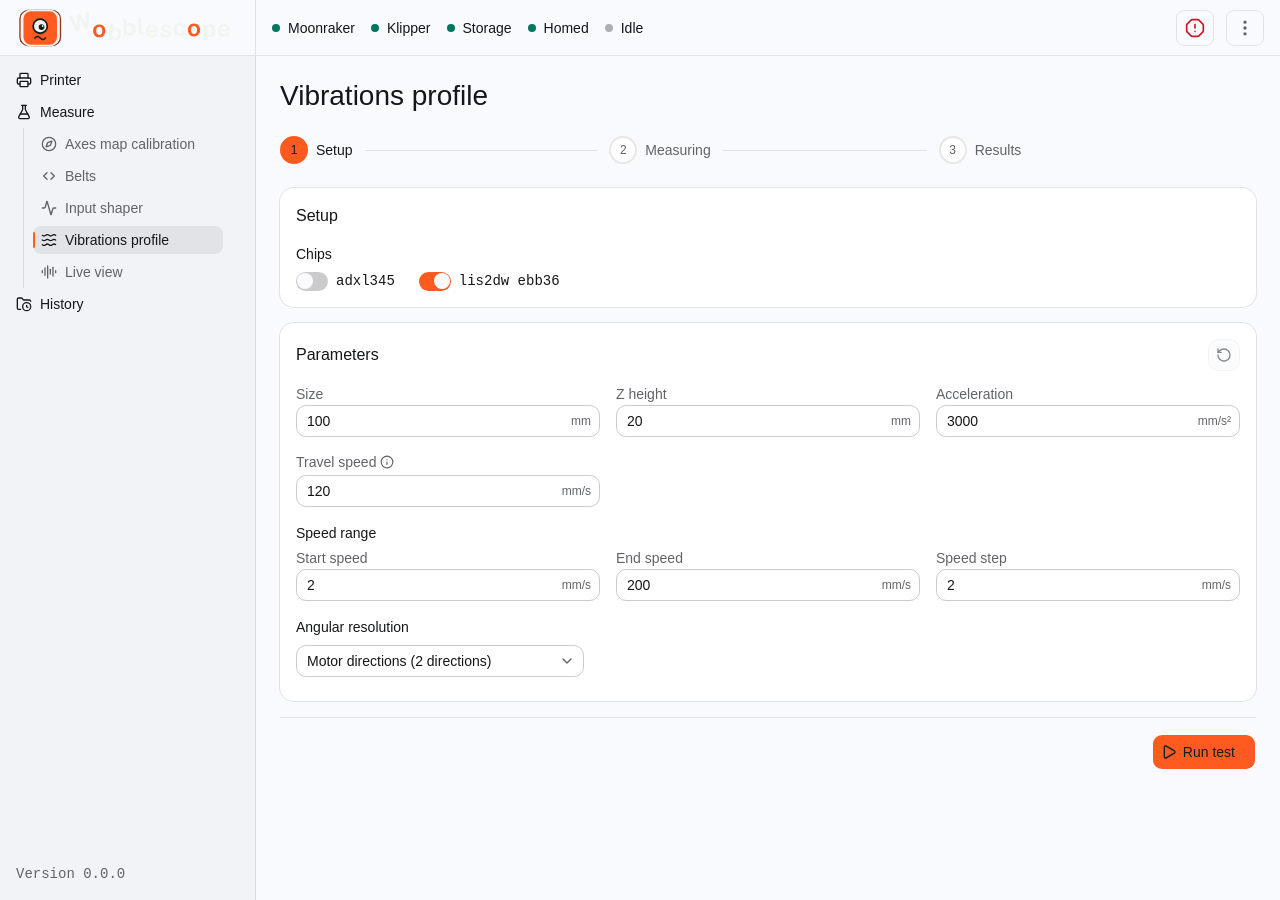
Scenario: the vibrations run page › refuses_a_start_speed_not_below_the_end_speed
Check: the button "Run test" is enabled, box x1=1152 y1=734 x2=1256 y2=770
Type "200" into the number field labelled "Start speed".
click(429, 585); type("200")  # box x1=297 y1=569 x2=562 y2=601
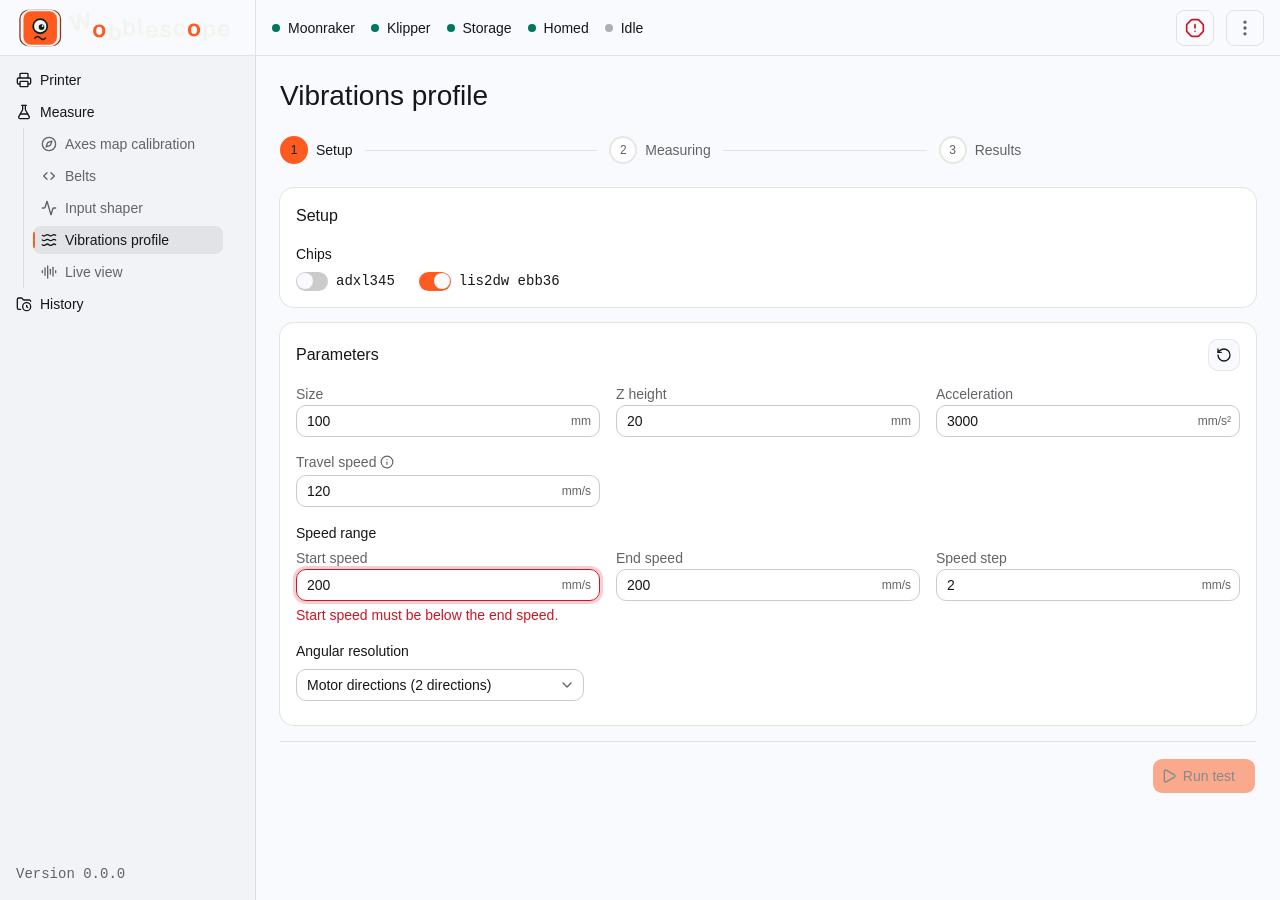
Check: the text "Start speed must be below the end speed." is shown, box x1=296 y1=605 x2=600 y2=625
Check: the button "Run test" is disabled, box x1=1152 y1=758 x2=1256 y2=794
Replace the text in the number field labelled "Start speed" with "20" at (429, 585), box x1=297 y1=569 x2=562 y2=601
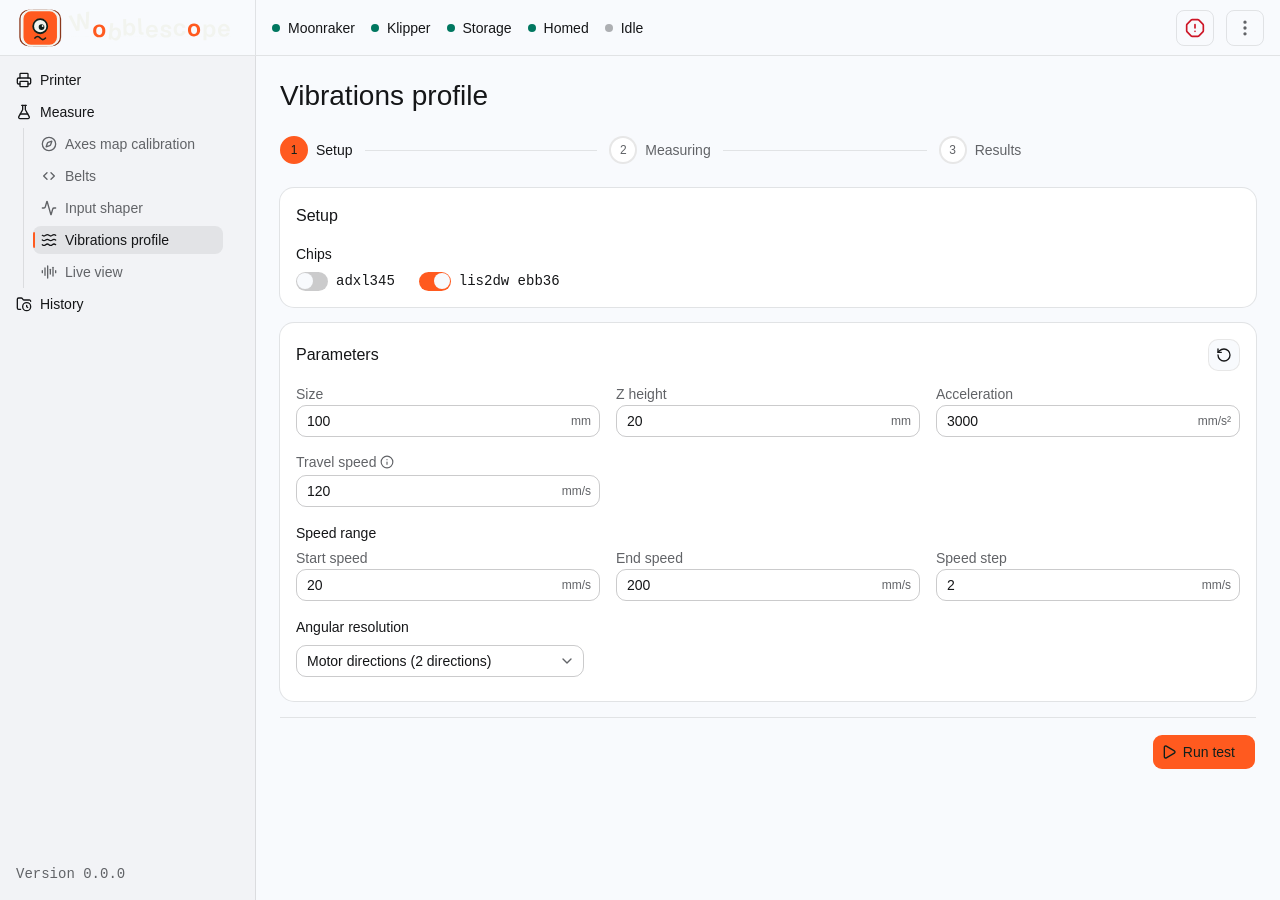
Check: the button "Run test" is enabled, box x1=1152 y1=734 x2=1256 y2=770
